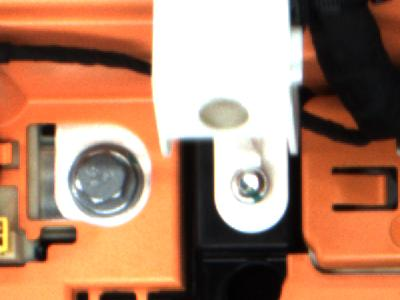nut_b: (59, 148, 148, 219)
